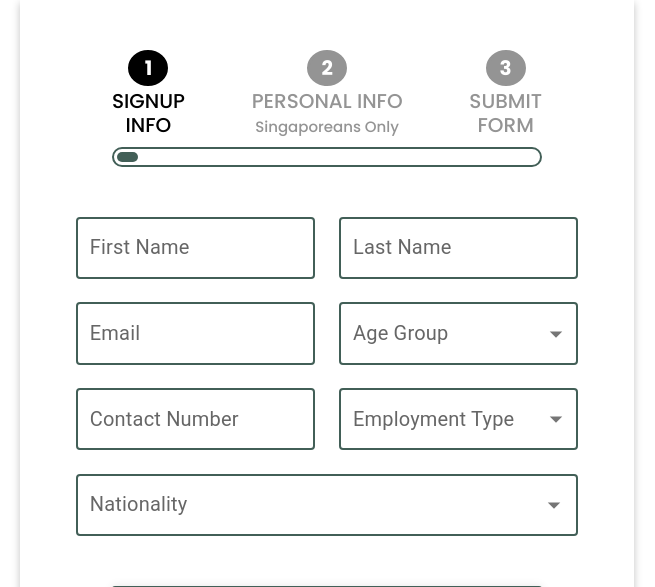
Test case: Join Form › First name validation to show error when invalid first name entered
Check: the text "*Only letters, -, . and ' are allowed" is not shown
Type "123123" into the field labelled "First Name" at coordinates (195, 248), box 76,217 -> 315,279
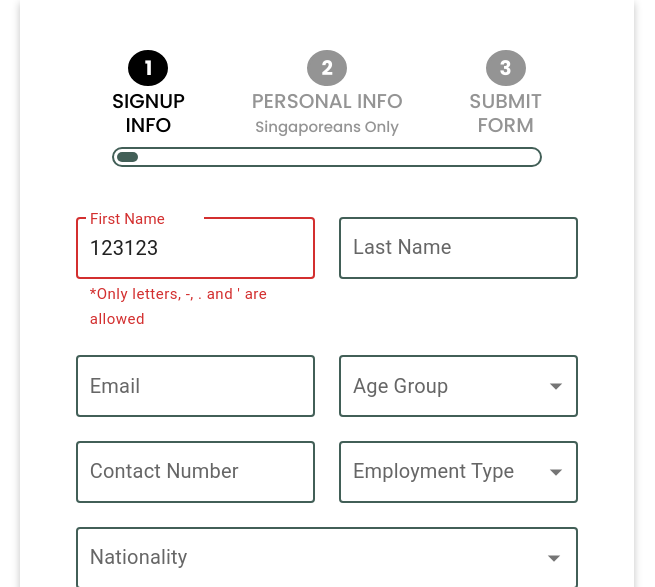
Check: the text "*Only letters, -, . and ' are allowed" is shown, box 90,285 -> 267,328
